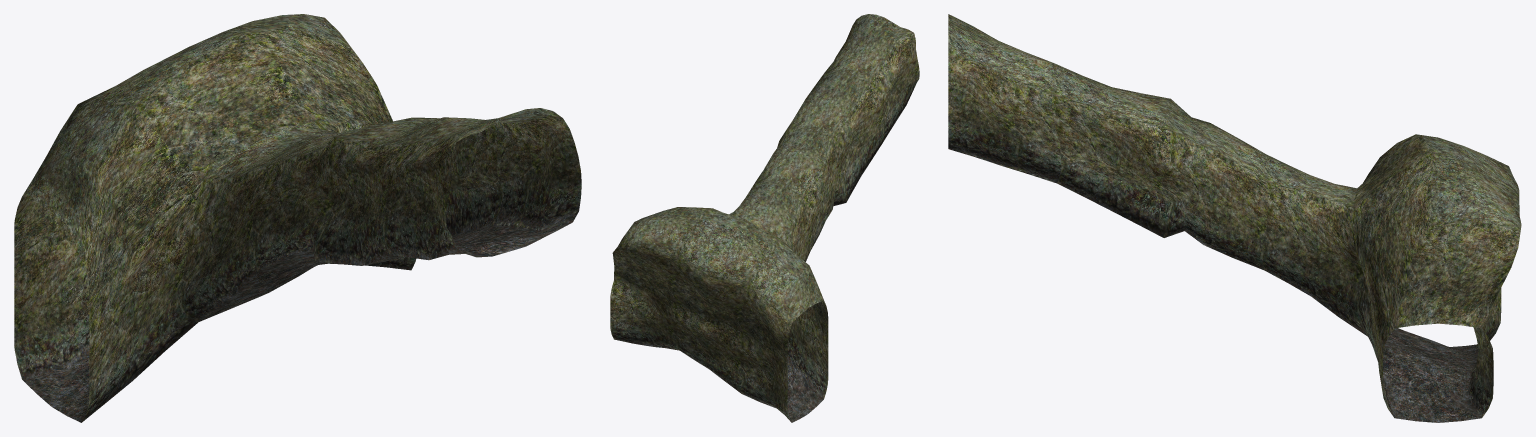
Rendered from thm_all_cave_flatland_s03_damprock_r1_r1.fbx.
The picture shows the model from 3 angles, left to right: view 1: azimuth 30°, elevation 25°; view 2: azimuth 150°, elevation 25°; view 3: azimuth 270°, elevation 25°; orthographic projection. The views are drawn at different scales.
Parts seen in each view (by area): view 1: mesh_node; view 2: mesh_node; view 3: mesh_node.
Boxes of the visible parts, left/top/right/bottom form: mesh_node: left=14, top=14, right=581, bottom=422; mesh_node: left=610, top=14, right=919, bottom=422; mesh_node: left=948, top=14, right=1521, bottom=422.
Size of the model in its own units: 22.7 by 31.04 by 41.47.
